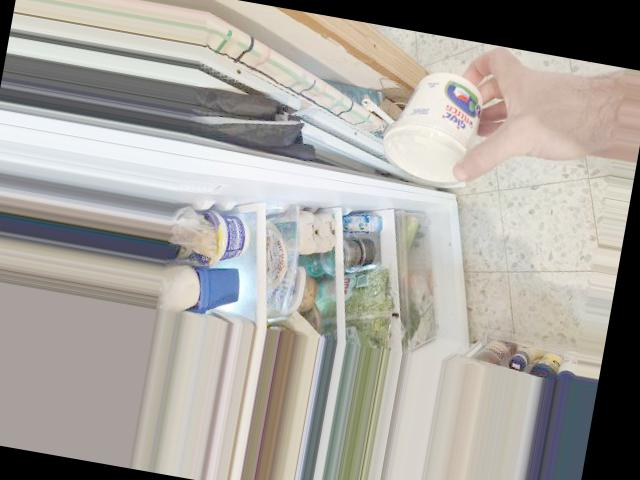cotage: (374, 59, 502, 195)
